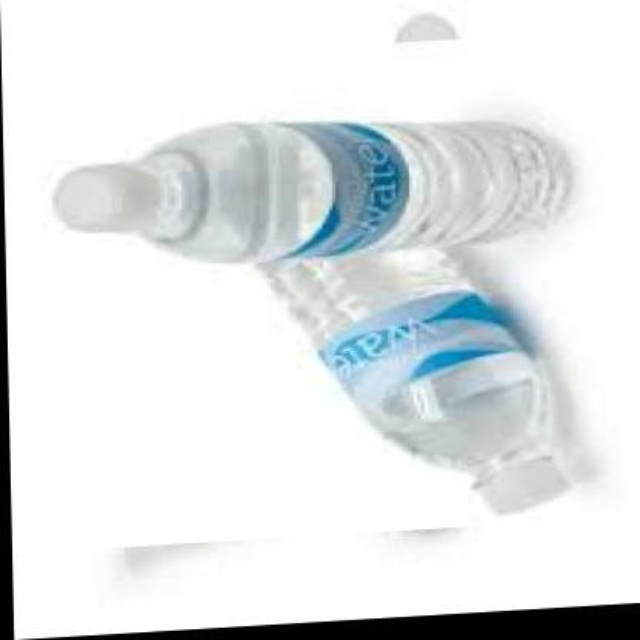trash: (268, 249, 566, 511), (54, 122, 569, 260)
